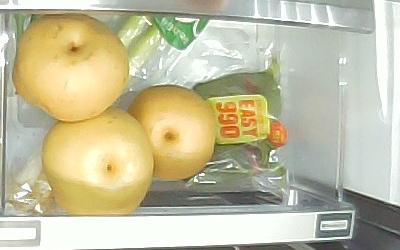pear: (13, 12, 128, 123), (41, 107, 152, 216), (127, 85, 216, 180)
